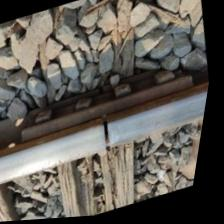person: (81, 104, 143, 163), (93, 81, 116, 101)
